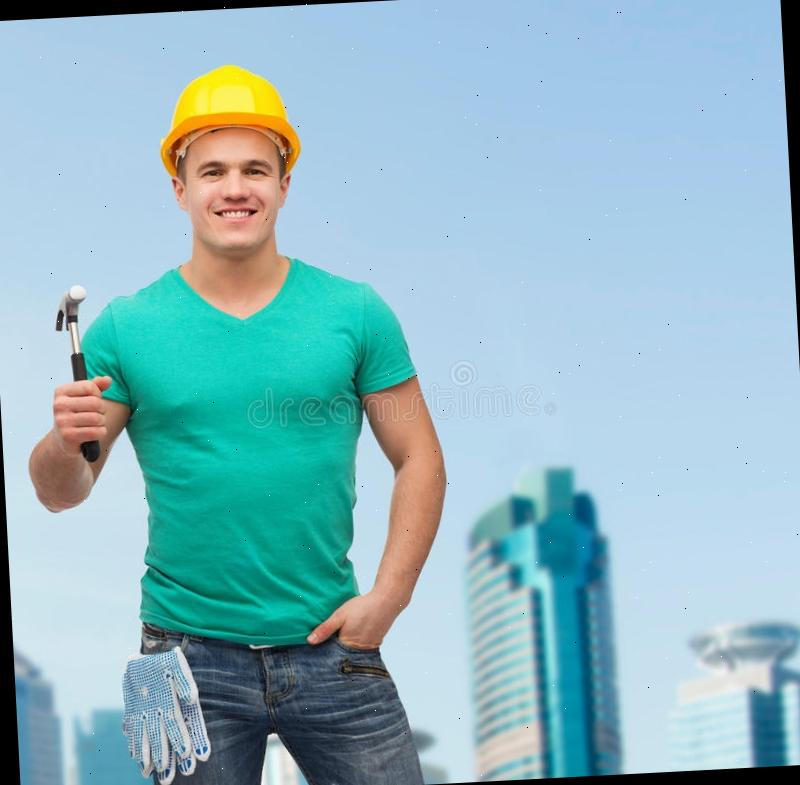helmet: (151, 62, 302, 174)
no_wear: (120, 264, 382, 644)
